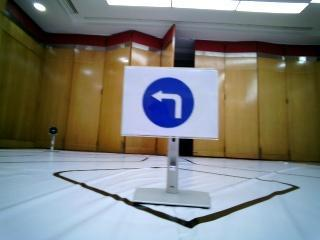left: (128, 66, 206, 136)
